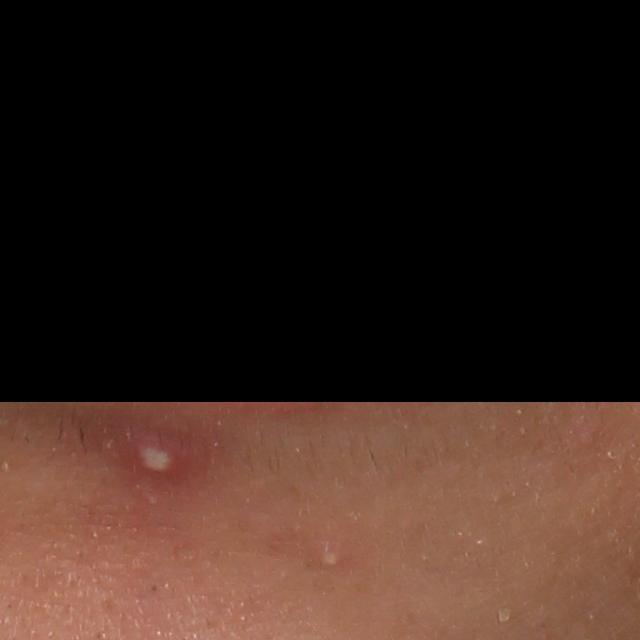pustule: (127, 437, 201, 489)
